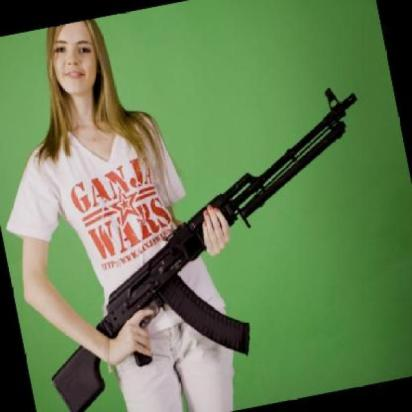Gun: (50, 92, 356, 397)
